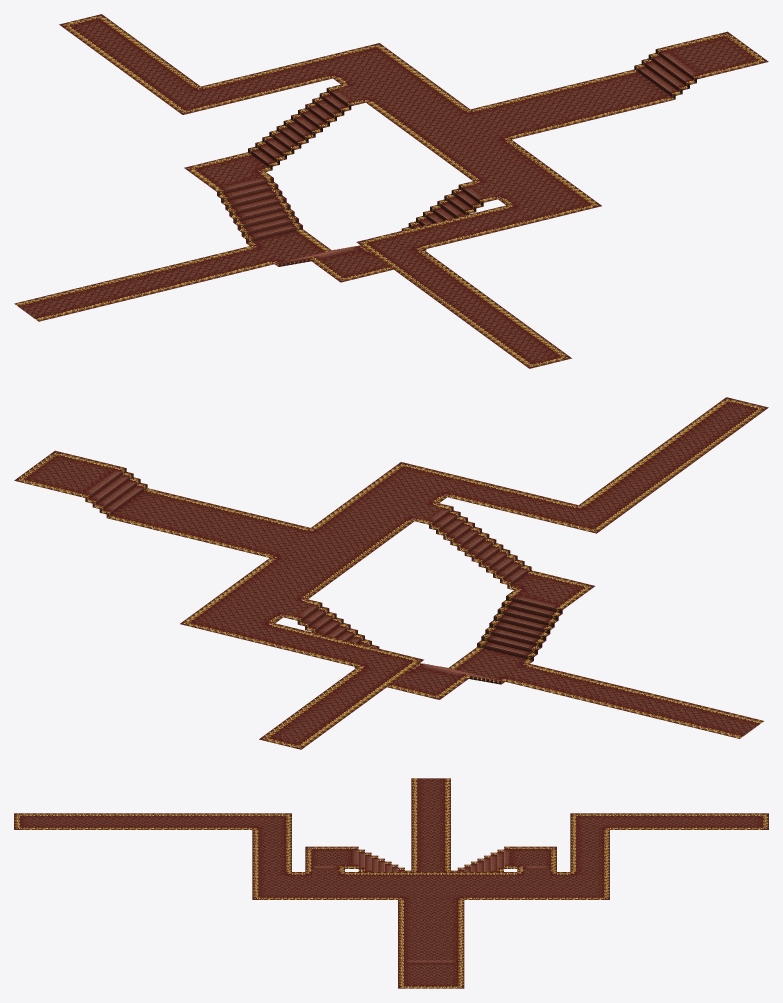
The model's file is ObjMD_Plain_Catsle_Carpet_A.FBX.
3 views of the same model, one above another, from view 1: azimuth 30°, elevation 25°; view 2: azimuth 150°, elevation 25°; view 3: azimuth 270°, elevation 25° (orthographic). The views are drawn at different scales.
Visible parts, largest first — view 1: ObjMD_Plain_Catsle_Carpet_A; view 2: ObjMD_Plain_Catsle_Carpet_A; view 3: ObjMD_Plain_Catsle_Carpet_A.
Boxes of the visible parts, x1,y1,x2,y2 form: ObjMD_Plain_Catsle_Carpet_A: [14, 14, 768, 368]; ObjMD_Plain_Catsle_Carpet_A: [14, 397, 768, 749]; ObjMD_Plain_Catsle_Carpet_A: [14, 778, 768, 988].
Size of the model in its own units: 5050 by 600 by 5700.
